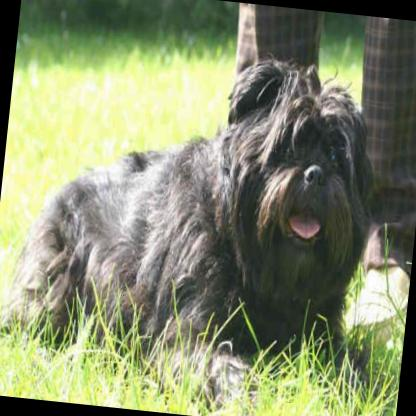affenpinscher: (0, 29, 410, 416)
